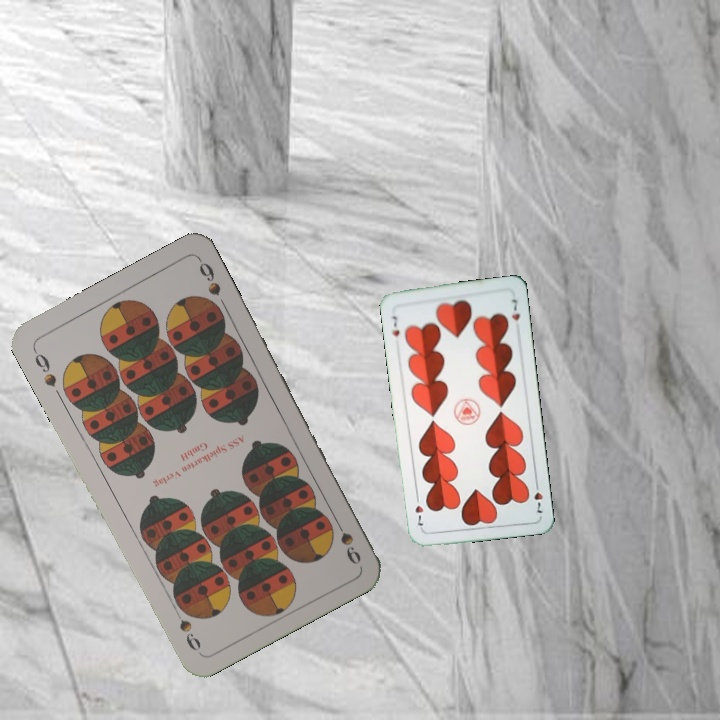H7: (530, 477, 546, 516), (388, 312, 402, 339)
S9: (329, 512, 364, 567), (29, 344, 59, 390)
